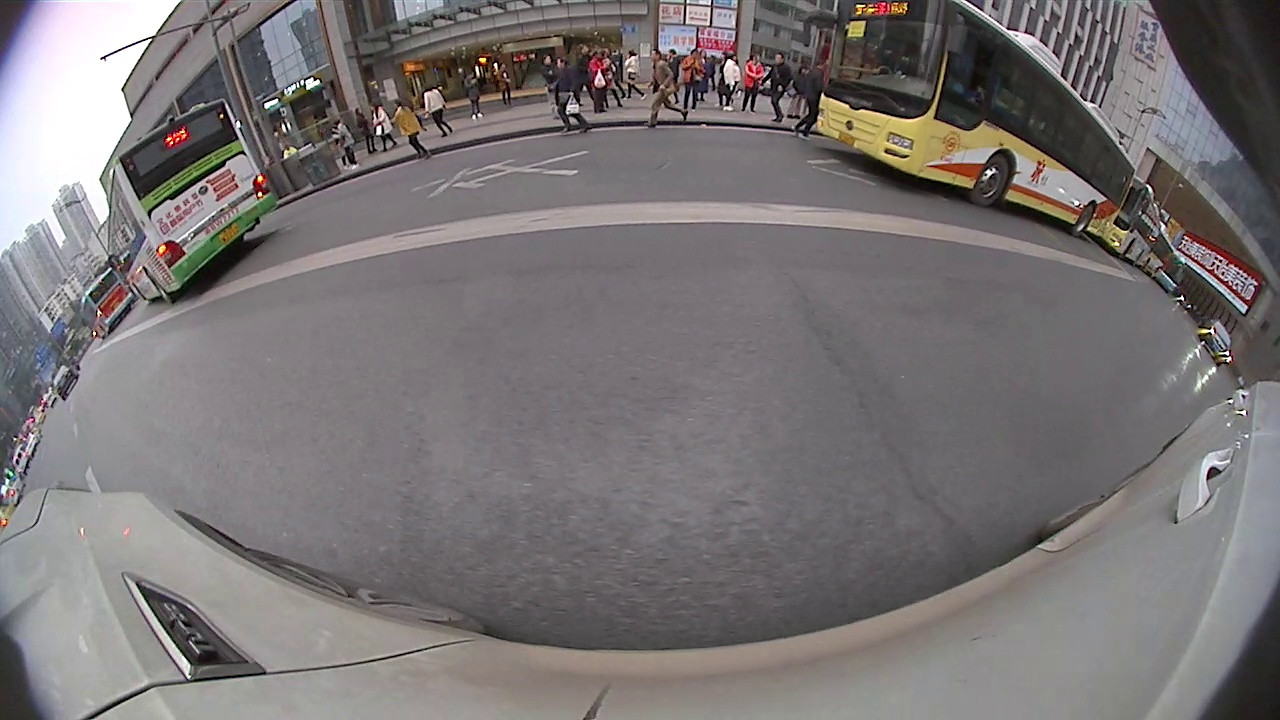bus: (816, 3, 1139, 245), (103, 91, 280, 309), (79, 267, 137, 339)
car: (1196, 318, 1233, 364)
front: (969, 152, 1016, 208)
person: (551, 58, 587, 135), (393, 99, 430, 159), (648, 47, 674, 127), (771, 52, 787, 125)
rear: (1074, 200, 1096, 240)
